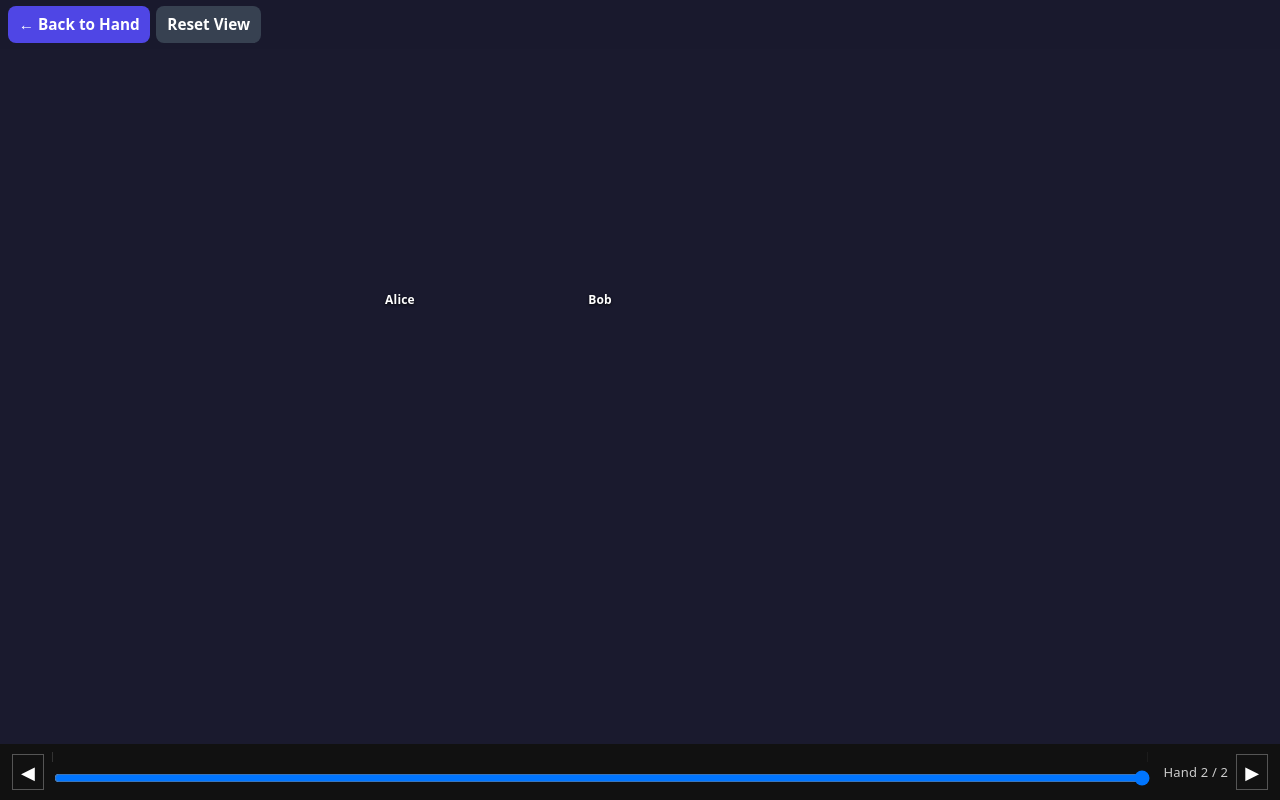
Test: TableView › with fake timers (polling) › shows "New hand available" banner when scrubbing older hand (AC3)
# Scrub to hand 1 (index 0, not latest)
Set the slider with test id "session-slider" to "1" at (62, 778), box [54,770,1150,786]
Wait 10100 ms
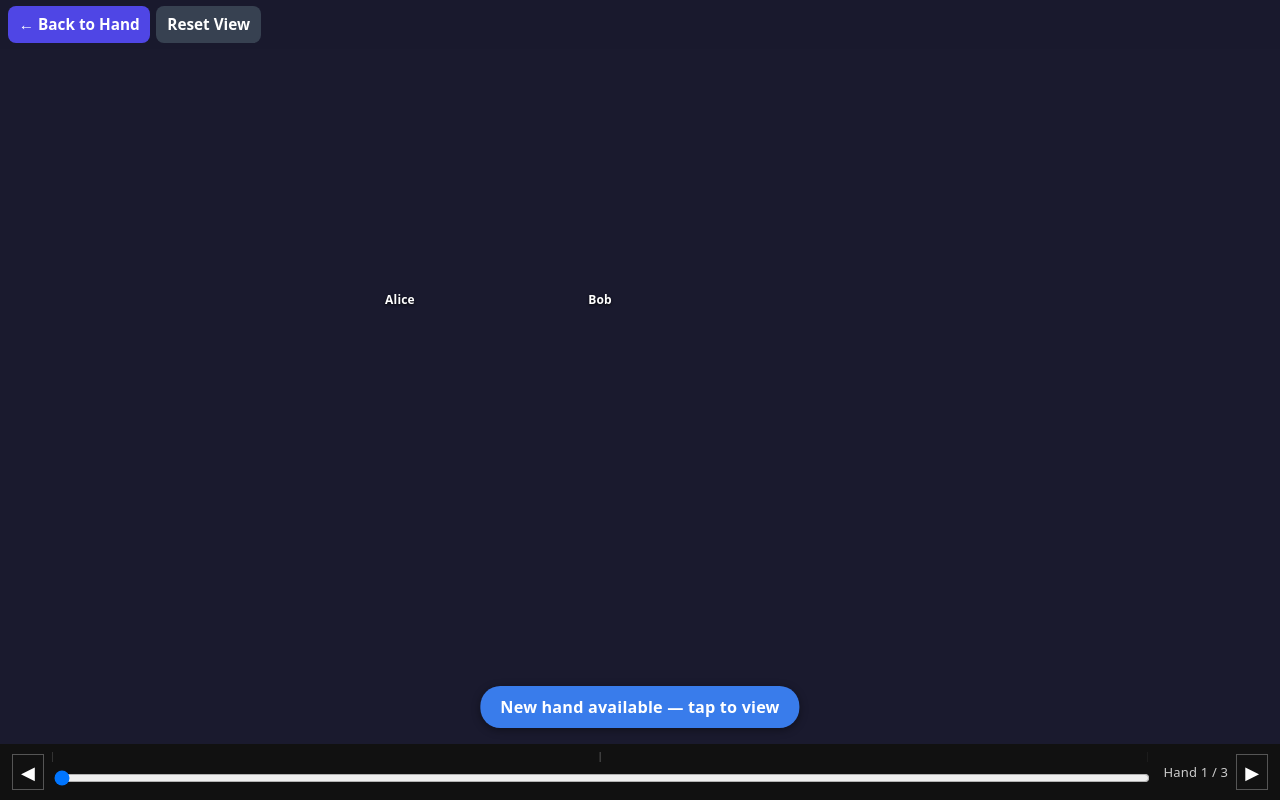
Check: the text "New hand available — tap to view" is shown, box [480,686,800,728]
Check: the text with test id "new-hand-banner" shows "New hand available", box [500,696,780,718]
